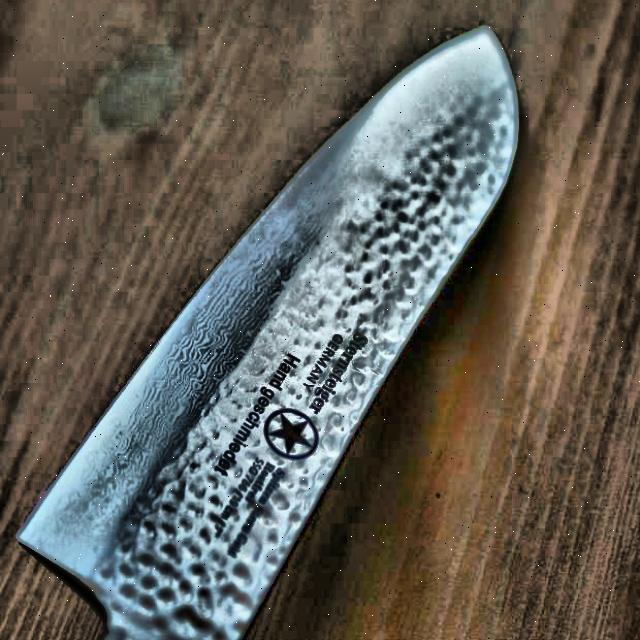knife: (16, 25, 522, 640)
